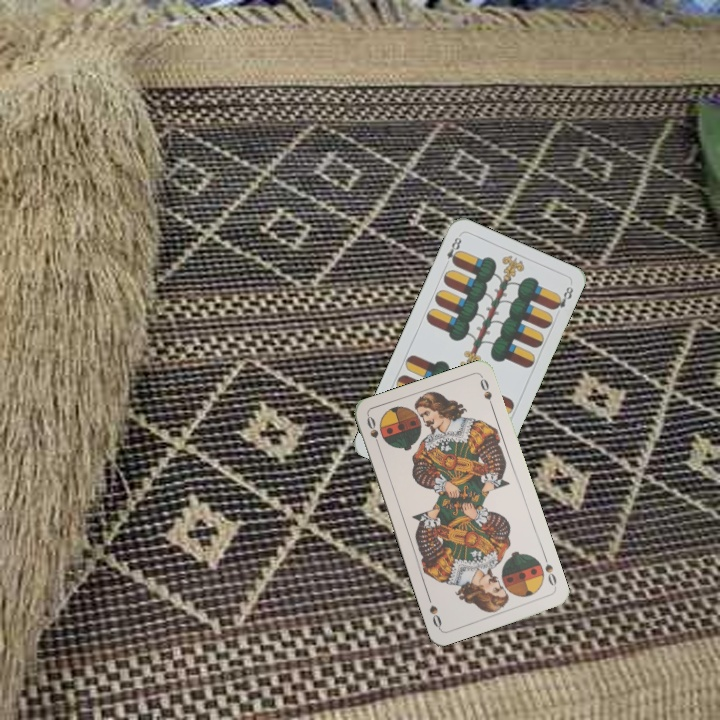E8: (440, 231, 464, 269)
SO: (363, 412, 383, 452), (540, 552, 559, 591)
